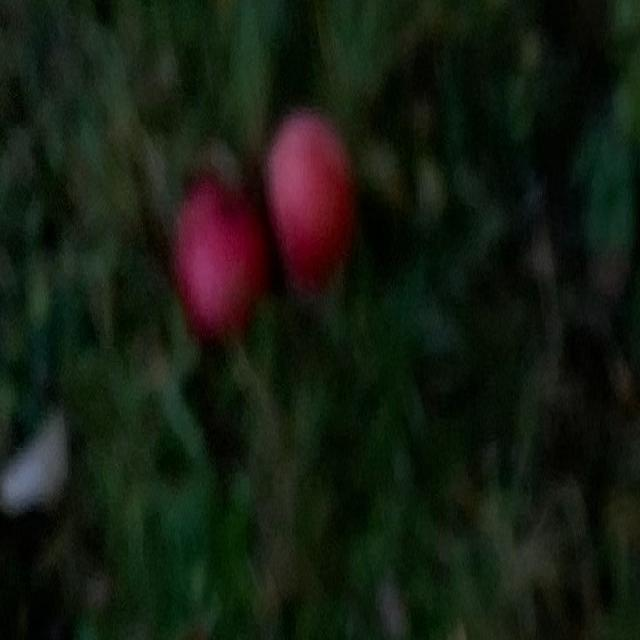100-_ripeness: (275, 108, 349, 284), (180, 183, 264, 329)
